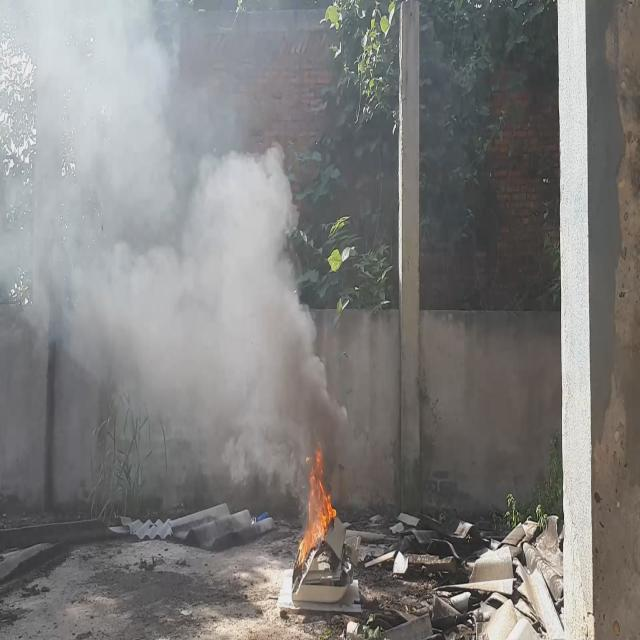Fire: (296, 442, 340, 572)
Smoke: (0, 0, 351, 494)
